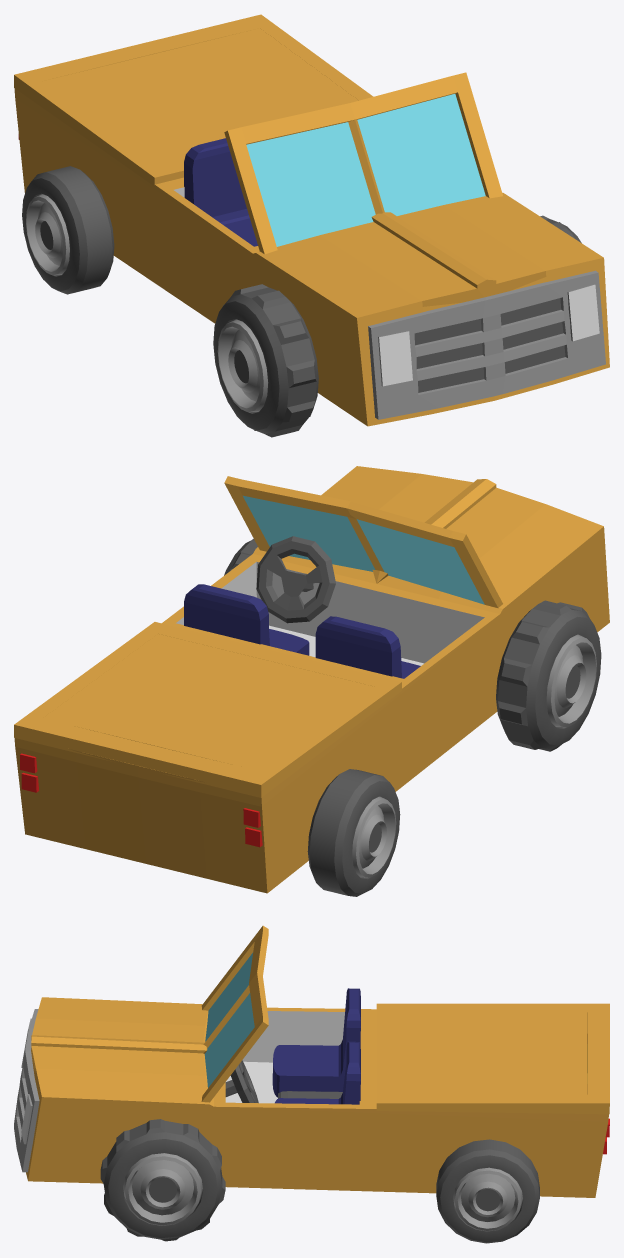
The model's file is car1.fbx.
The picture shows the model from 3 angles, top to bottom: view 1: azimuth 30°, elevation 25°; view 2: azimuth 150°, elevation 25°; view 3: azimuth 270°, elevation 25°; orthographic projection. The views are drawn at different scales.
Visible parts, largest first — view 1: Bobcat, wfheel_FR, Wheel_BR; view 2: Bobcat, wfheel_FR, Wheel_BR; view 3: Bobcat, Wheel_FL, Wheel_BL.
Boxes of the visible parts, x1,y1,x2,y2 form: Bobcat: (14,14,609,426); wfheel_FR: (213,284,318,437); Wheel_BR: (22,166,114,294); Bobcat: (14,466,609,893); wfheel_FR: (496,600,601,751); Wheel_BR: (307,769,400,896); Bobcat: (14,925,609,1197); Wheel_FL: (100,1119,225,1241); Wheel_BL: (436,1139,539,1243).
Bounding box in the file's own units: 3.41 × 2.43 × 6.31.
